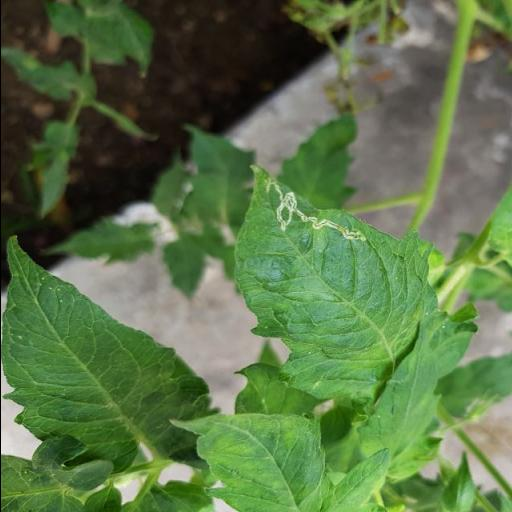Healthy: (0, 248, 213, 474)
Leaf Miner: (230, 170, 438, 406)
